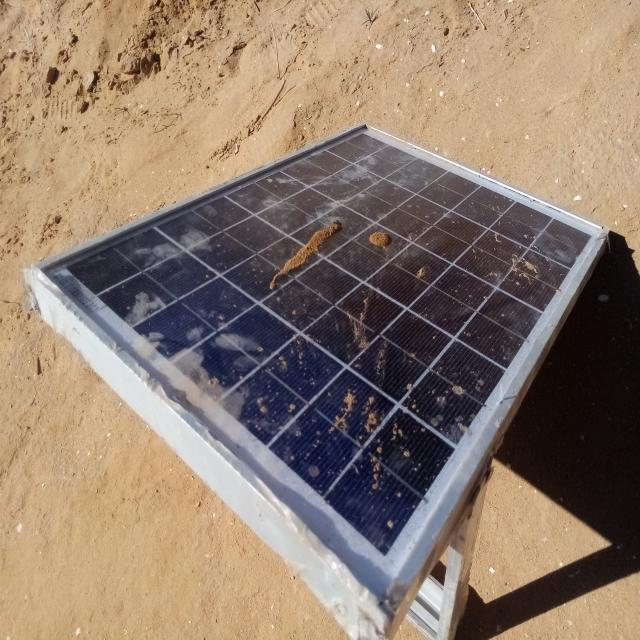faulty: (35, 125, 609, 613)
